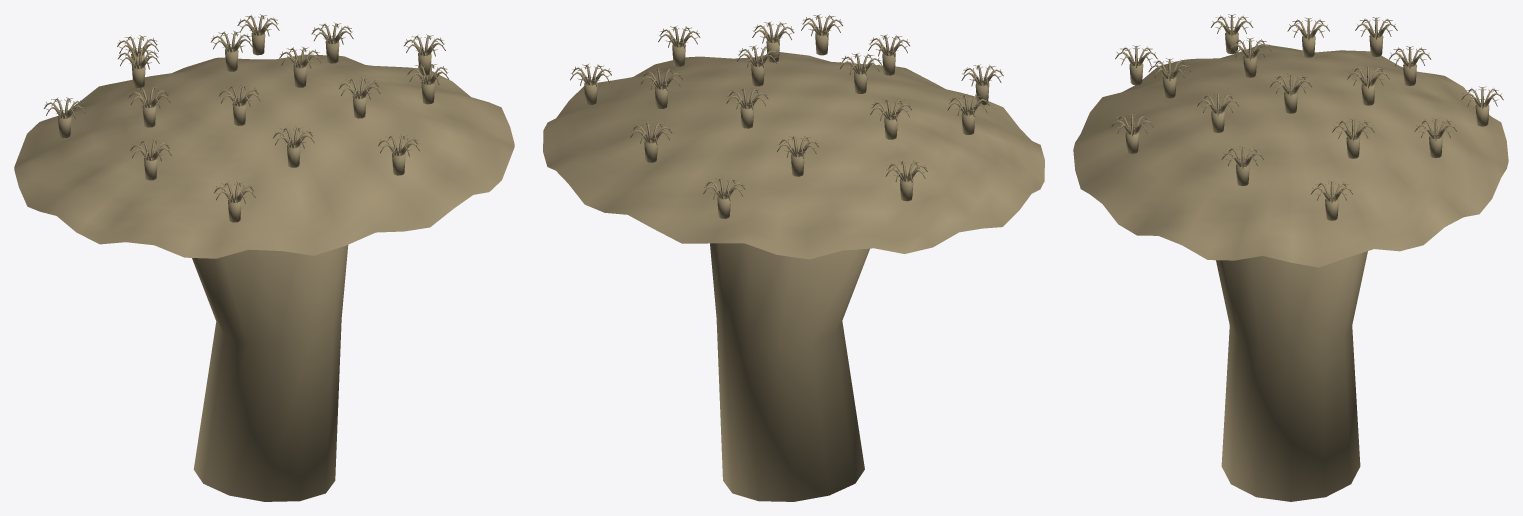
File: softleather-mobile.glb
The picture shows the model from 3 angles, left to right: view 1: azimuth 30°, elevation 25°; view 2: azimuth 150°, elevation 25°; view 3: azimuth 270°, elevation 25°; orthographic projection. The views are drawn at different scales.
Parts seen in each view (by area): view 1: folded-cap, leather-stalk, octocoral-tentacle, polyp-column, pinnule; view 2: folded-cap, leather-stalk, octocoral-tentacle, polyp-column, pinnule; view 3: folded-cap, leather-stalk, octocoral-tentacle, polyp-column, pinnule.
Part boxes in pixels (left/top/right/bottom): folded-cap: left=14, top=54, right=514, bottom=258; leather-stalk: left=192, top=245, right=348, bottom=501; octocoral-tentacle: left=43, top=15, right=449, bottom=204; polyp-column: left=58, top=32, right=434, bottom=222; pinnule: left=44, top=14, right=448, bottom=198; folded-cap: left=543, top=52, right=1044, bottom=259; leather-stalk: left=710, top=243, right=869, bottom=501; octocoral-tentacle: left=570, top=15, right=1003, bottom=200; polyp-column: left=584, top=32, right=989, bottom=218; pinnule: left=571, top=14, right=1002, bottom=194; folded-cap: left=1073, top=44, right=1508, bottom=267; leather-stalk: left=1216, top=251, right=1367, bottom=501; octocoral-tentacle: left=1111, top=15, right=1503, bottom=202; polyp-column: left=1125, top=31, right=1489, bottom=220; pinnule: left=1113, top=14, right=1501, bottom=197.
Bounding box in the file's own units: 0.62 × 0.5538 × 0.5332.
